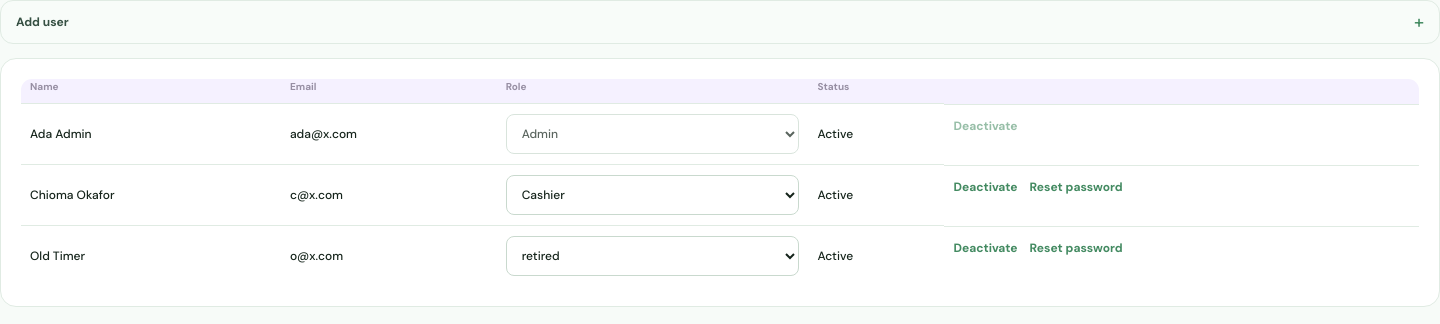
Test: shows a busy label on the row while toggling active status
The width and height of the screenshot is (1440, 324).
Click the button with aria-label "Deactivate Chioma Okafor" at [986, 186], box [954,176,1018,198]
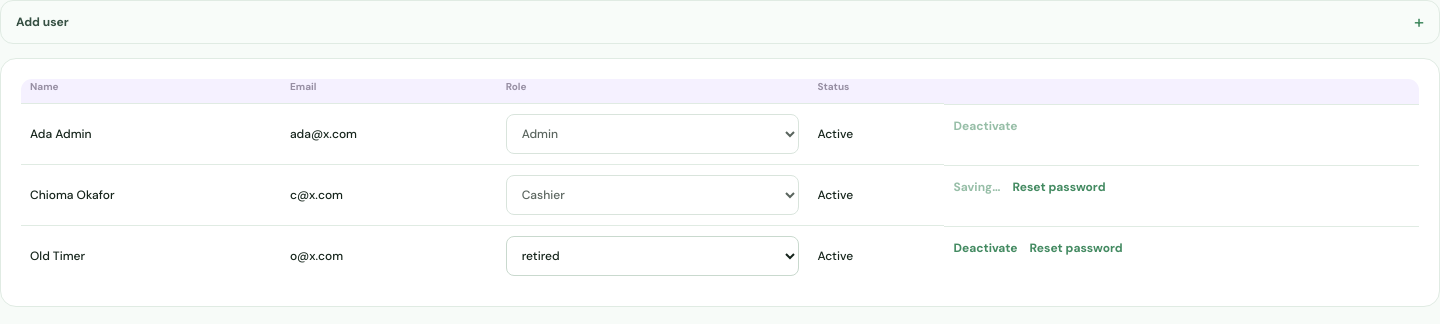
Check: the button with aria-label "Deactivate Chioma Okafor" is disabled, box [954,176,1000,198]
Check: the button with aria-label "Deactivate Chioma Okafor" reads "Saving…", box [954,176,1000,198]
Check: the dropdown named "Role for Chioma Okafor" is disabled, box [506,175,799,215]
